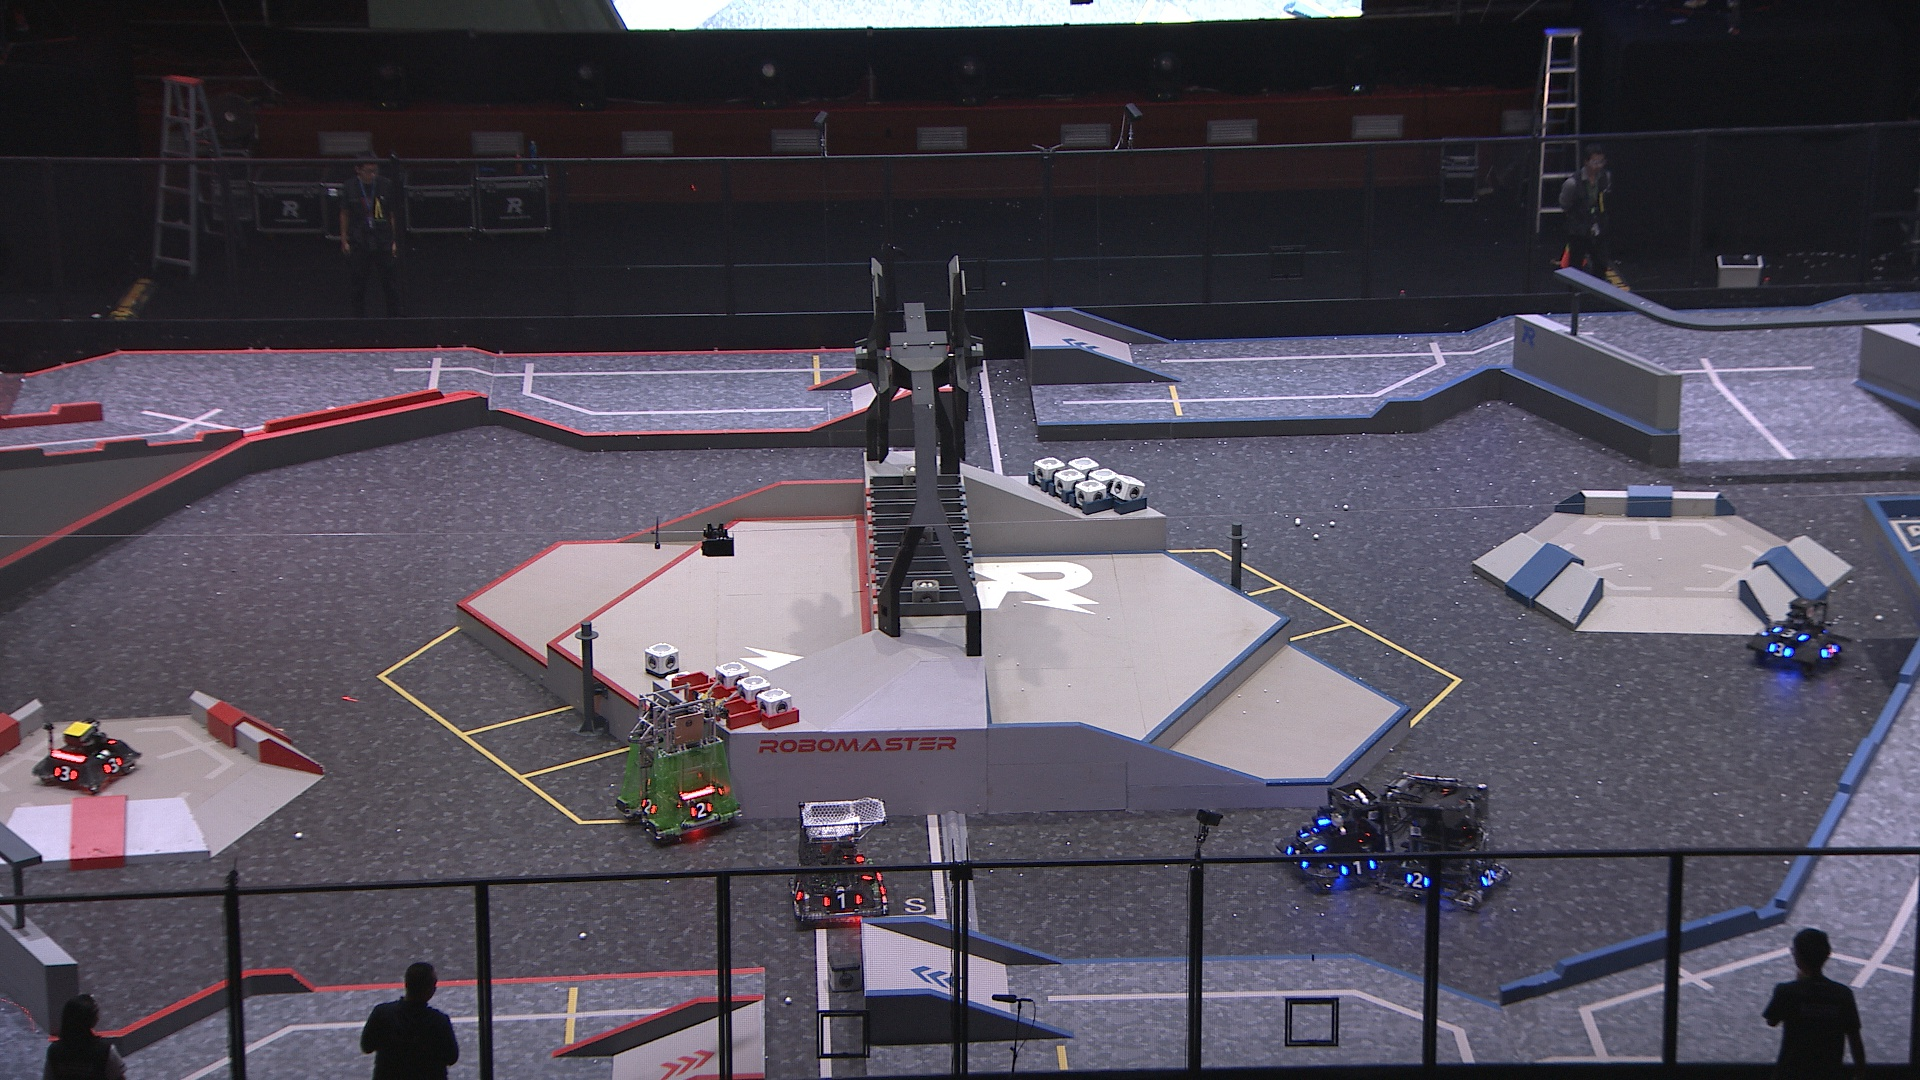armor: (1340, 855, 1378, 878), (823, 891, 862, 910), (1284, 845, 1311, 872), (1300, 829, 1327, 855), (51, 764, 80, 785), (1770, 626, 1808, 642), (1404, 872, 1433, 891), (102, 756, 127, 777), (690, 802, 713, 822), (1768, 642, 1793, 661), (1480, 869, 1499, 889), (790, 880, 807, 902), (641, 798, 659, 818), (1820, 644, 1840, 662)
car: (615, 684, 746, 841), (1377, 777, 1514, 909), (789, 796, 891, 927), (1276, 783, 1390, 893), (1742, 591, 1851, 680), (32, 716, 144, 796)
